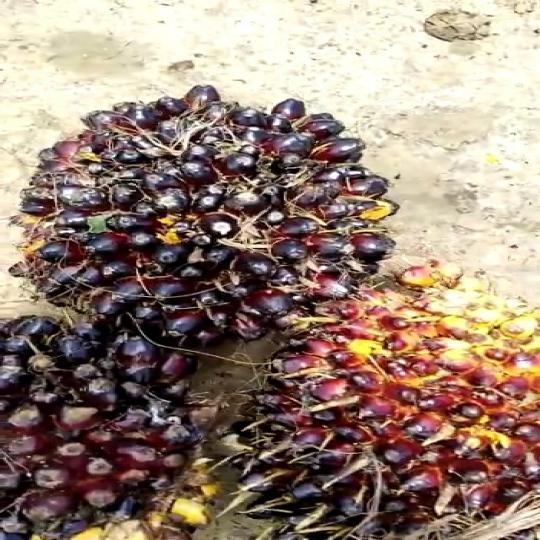mentah: (16, 84, 416, 352), (238, 270, 529, 540), (0, 310, 239, 531)
